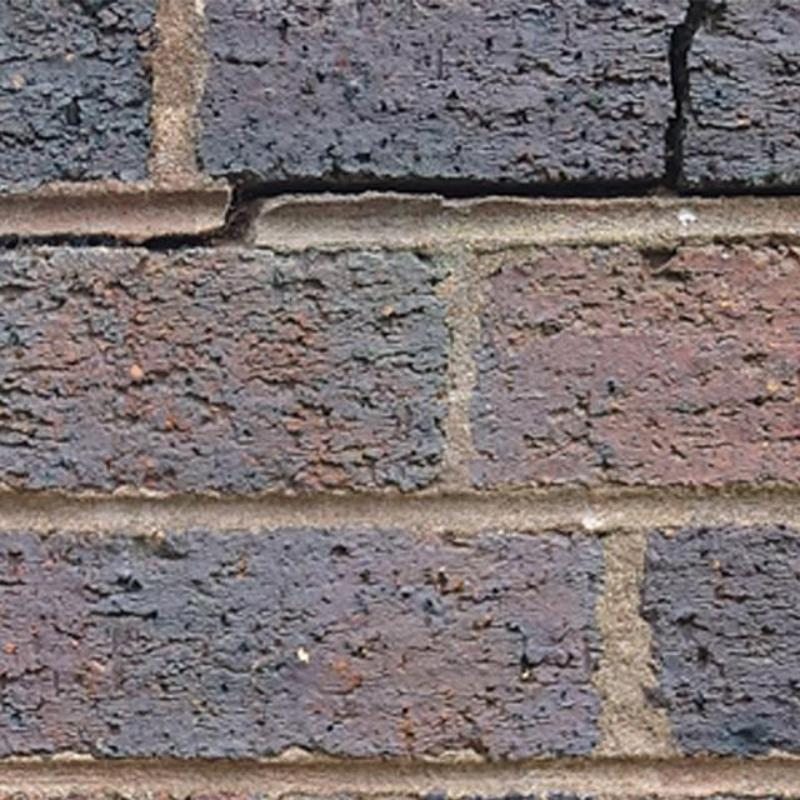crack: (0, 0, 800, 249)
